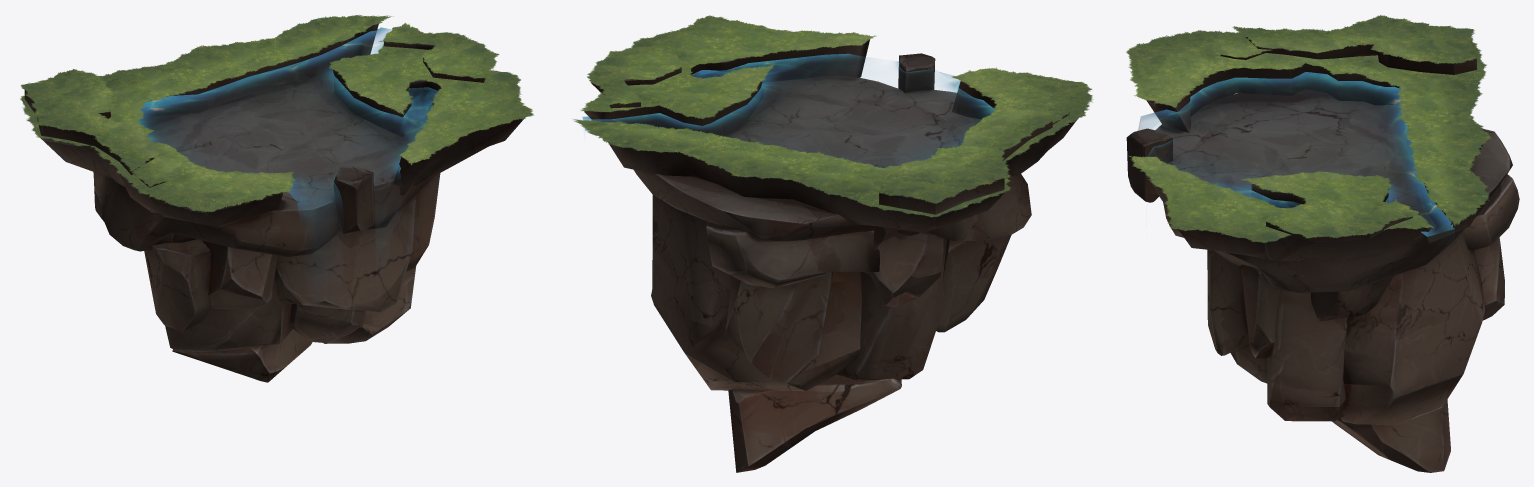
Rendered from M_island.glb.
The picture shows the model from 3 angles, left to right: view 1: azimuth 30°, elevation 25°; view 2: azimuth 150°, elevation 25°; view 3: azimuth 270°, elevation 25°; orthographic projection. The views are drawn at different scales.
Parts seen in each view (by area): view 1: Props_Arena_Island, Props_Grass, Props_Lake; view 2: Props_Arena_Island, Props_Grass, Props_Lake; view 3: Props_Arena_Island, Props_Grass, Props_Lake.
Boxes of the visible parts, box(x1,y1,x2,y2) form: Props_Arena_Island: box(22, 23, 523, 382); Props_Grass: box(20, 15, 533, 212); Props_Lake: box(138, 27, 438, 238); Props_Arena_Island: box(584, 39, 1083, 472); Props_Grass: box(573, 15, 1093, 217); Props_Lake: box(582, 53, 994, 167); Props_Arena_Island: box(1126, 37, 1519, 472); Props_Grass: box(1126, 15, 1491, 242); Props_Lake: box(1138, 72, 1454, 236).
Size of the model in its own units: 65.77 by 47.06 by 50.17.
3 materials, 3 textured.
